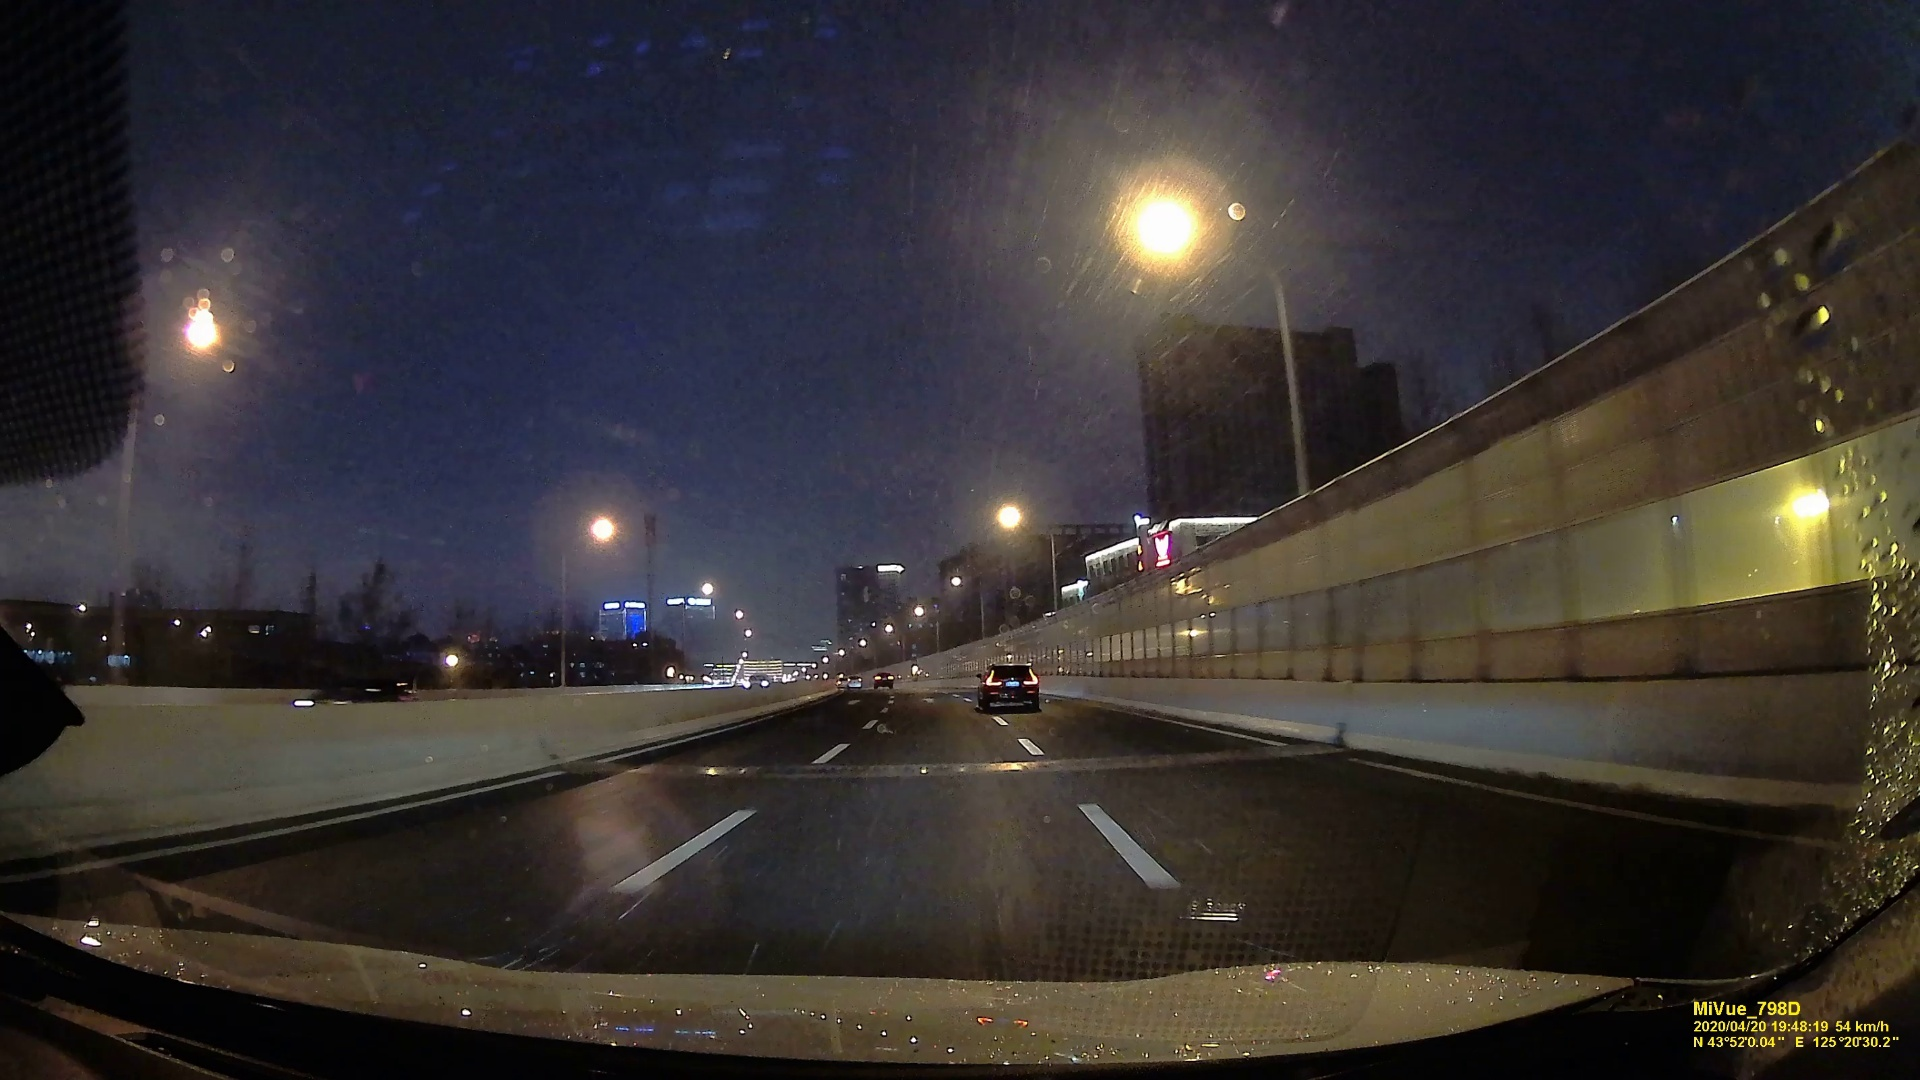vehicle: (978, 662, 1043, 712), (873, 673, 895, 688)
